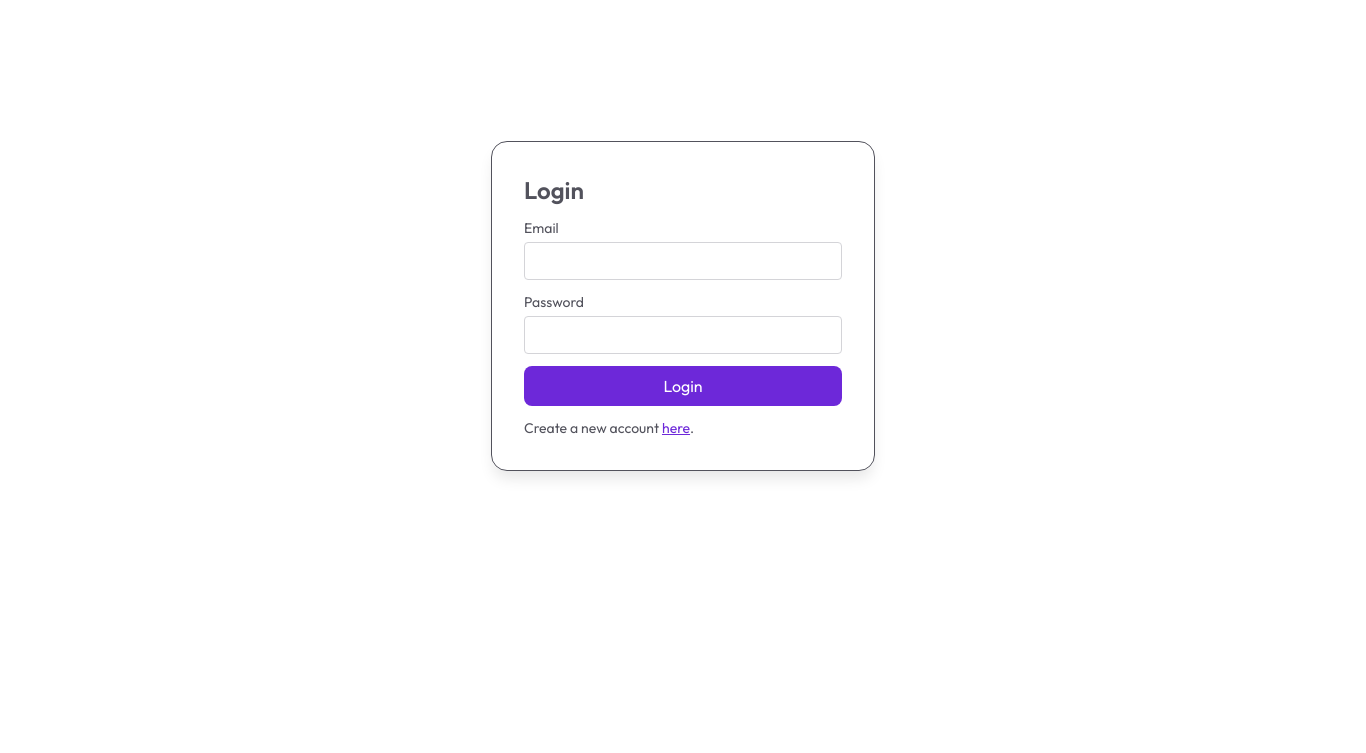
Test case: Login Flow › should successfully log in patient user and redirect to patient home
Type "patient@example.com" into the field labelled "Email" at (683, 261), box [524, 242, 842, 280]
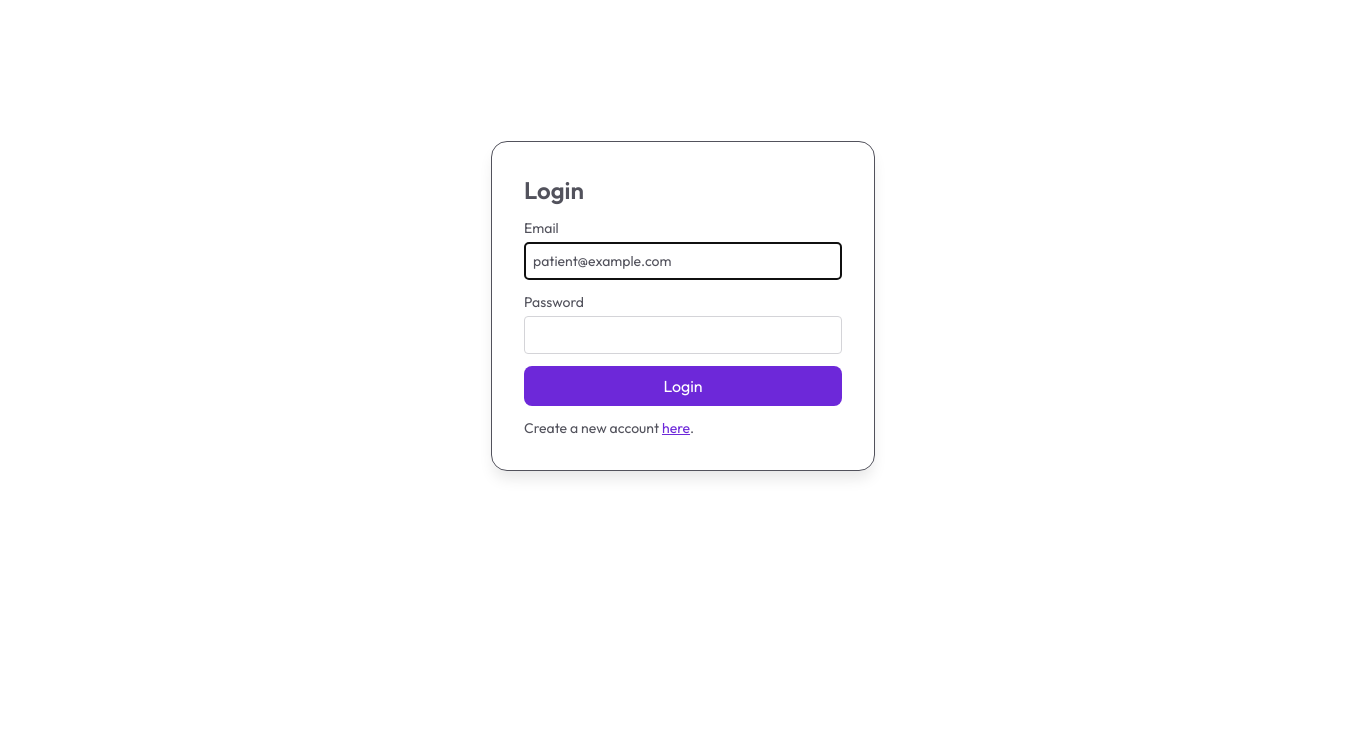
Type "Password123!" into the password field labelled "Password" at (683, 335), box [524, 316, 842, 354]
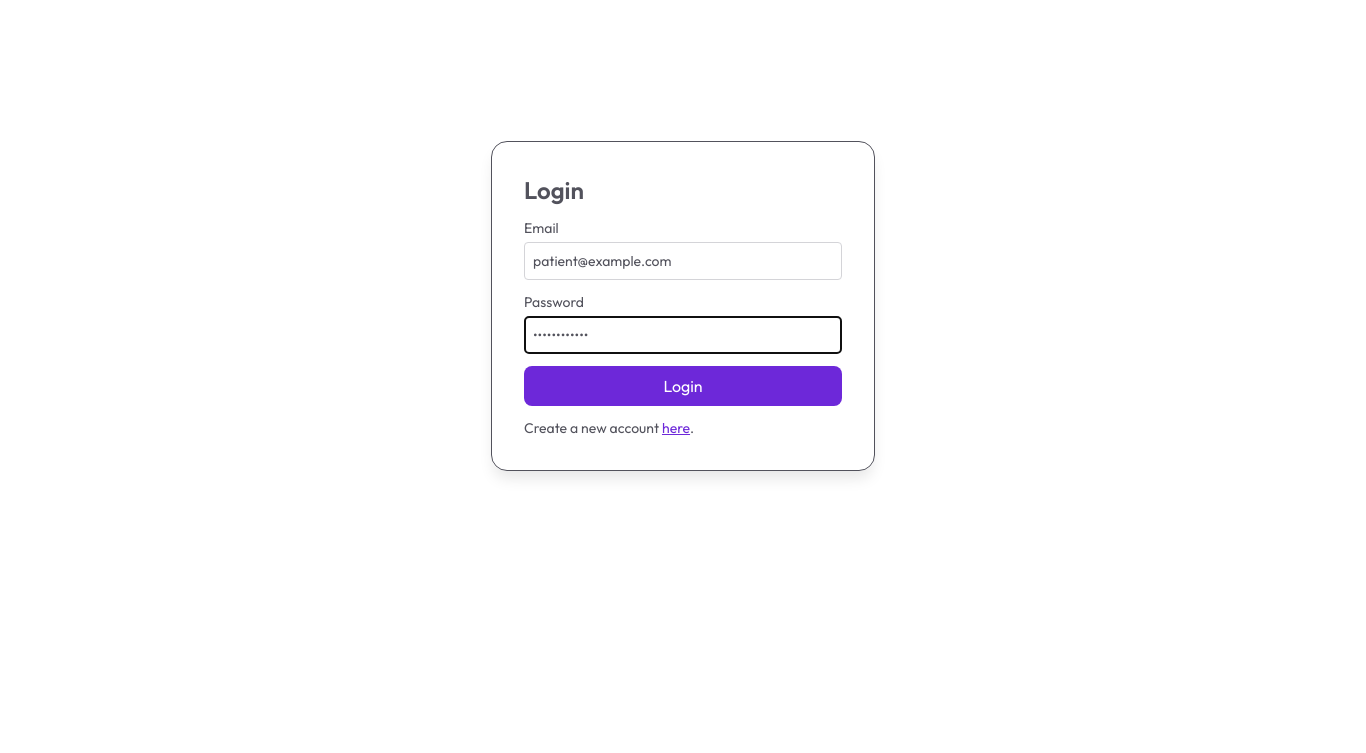
Click the button "Login" at (683, 386), box [524, 366, 842, 406]
(page scrolled)
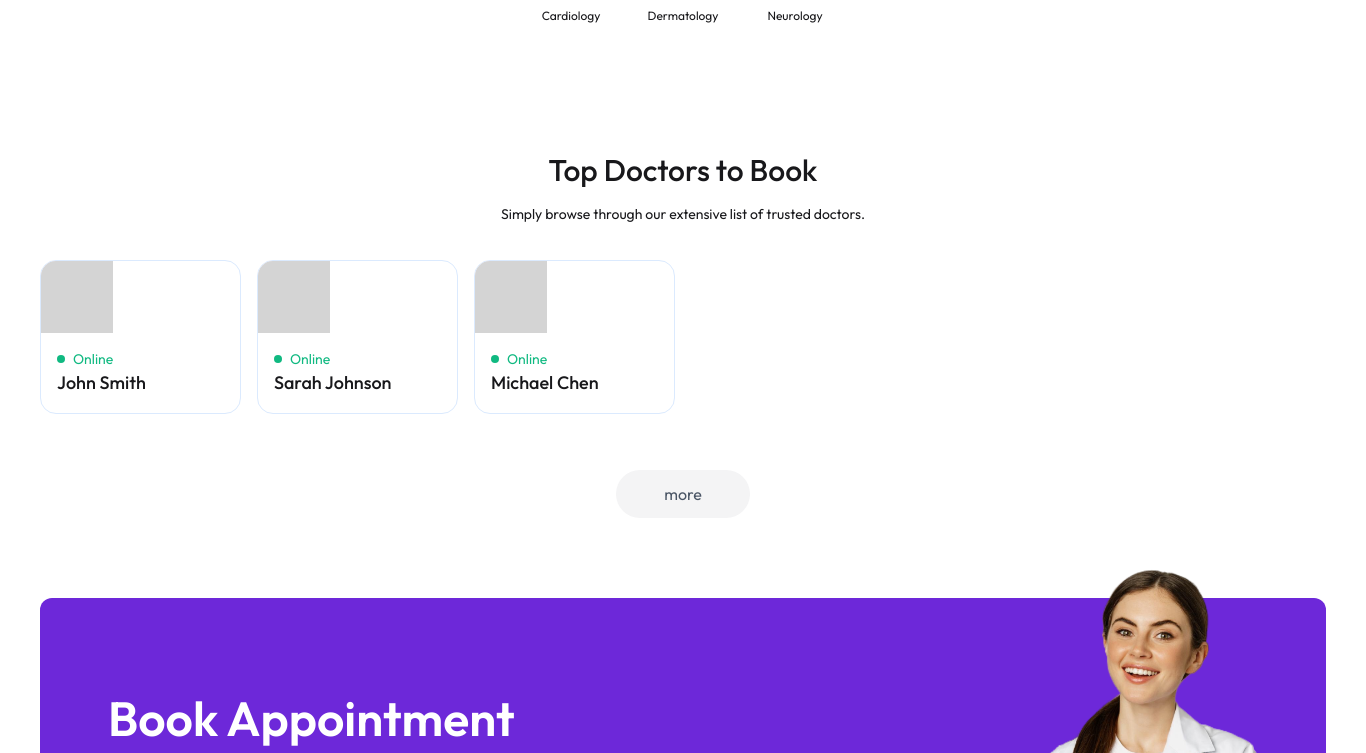
expect the text "Cardiology" is shown: met, box [542, 8, 600, 24]
expect the text "Dermatology" is shown: met, box [648, 8, 718, 24]
expect the text "Neurology" is shown: met, box [767, 8, 822, 24]
